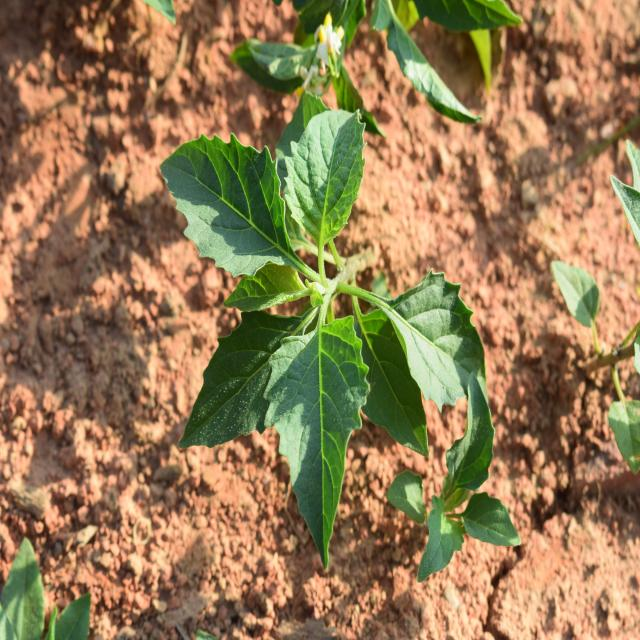Black_nightshade: (184, 99, 446, 553), (416, 391, 535, 590)
